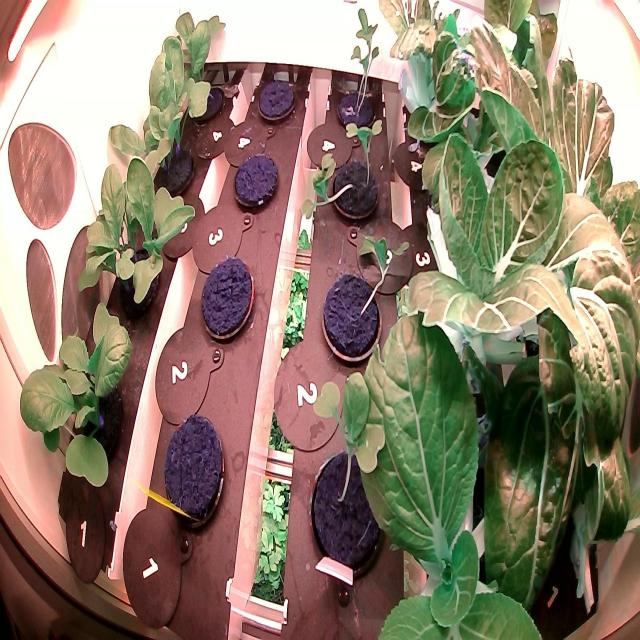pod: (158, 404, 234, 541), (197, 248, 260, 351), (230, 144, 283, 225), (253, 71, 299, 134)
